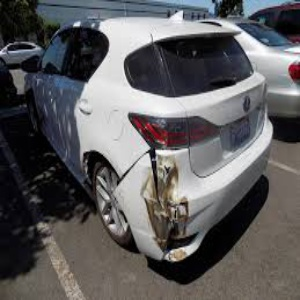bumper: (117, 154, 212, 266)
